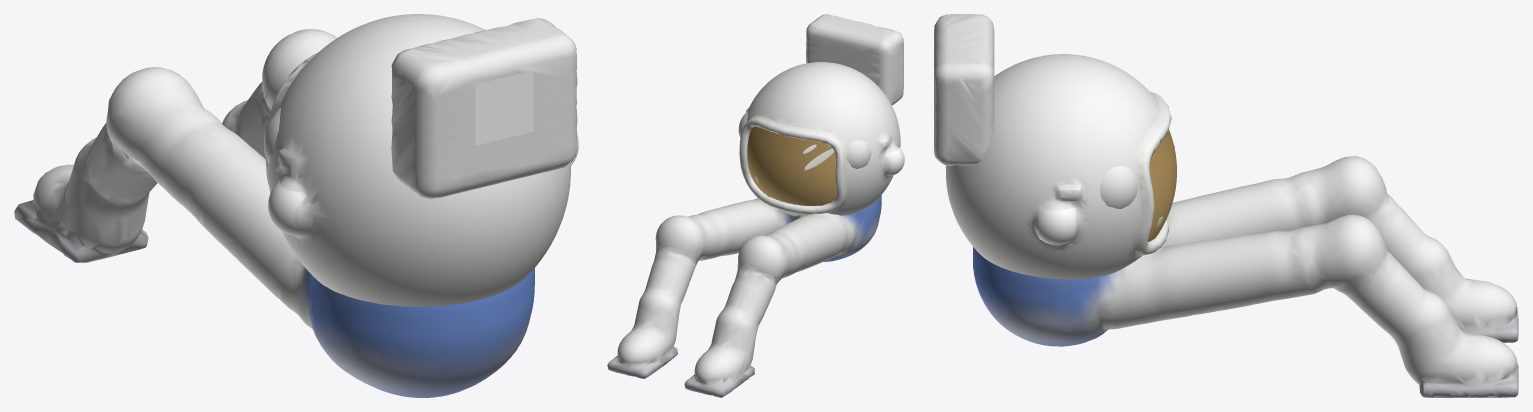
The model's file is astronaut.glb.
3 renders of one model, left to right at view 1: azimuth 30°, elevation 25°; view 2: azimuth 150°, elevation 25°; view 3: azimuth 270°, elevation 25°, orthographic. The views are drawn at different scales.
Visible parts, largest first — view 1: Suit, Helmet; view 2: Suit, Helmet; view 3: Suit, Helmet.
Part boxes in pixels (x1=…): Suit: x1=14, y1=18, x2=577, y2=397; Helmet: x1=265, y1=14, x2=578, y2=306; Suit: x1=607, y1=14, x2=903, y2=397; Helmet: x1=739, y1=62, x2=904, y2=216; Suit: x1=934, y1=14, x2=1518, y2=397; Helmet: x1=945, y1=54, x2=1176, y2=279.
Size of the model in its own units: 0.6195 by 0.8274 by 1.36.
